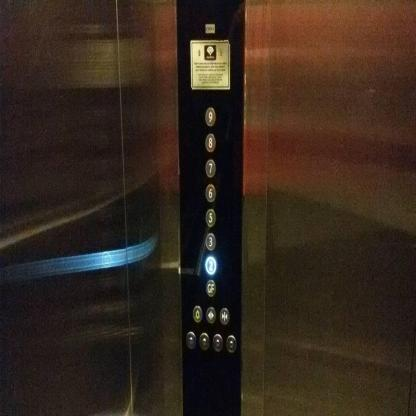2: (205, 256, 216, 274)
3: (205, 232, 215, 250)
5: (205, 207, 215, 227)
6: (205, 184, 215, 203)
7: (205, 159, 215, 178)
8: (205, 133, 216, 152)
9: (204, 107, 216, 127)
GF: (206, 277, 216, 297)
alarm: (192, 304, 202, 322)
close: (219, 307, 229, 325)
empty: (212, 333, 223, 352), (199, 332, 209, 352), (226, 334, 236, 354), (186, 330, 196, 348)
open: (206, 306, 216, 324)
